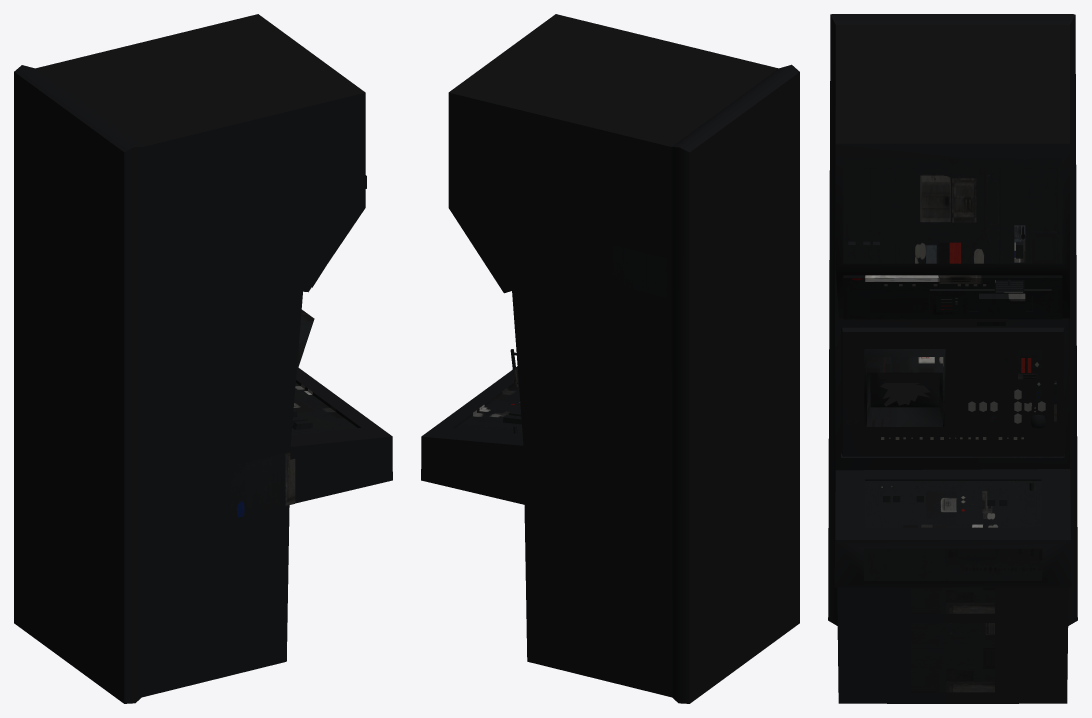
File: hoth_console.fbx
The picture shows the model from 3 angles, left to right: view 1: azimuth 30°, elevation 25°; view 2: azimuth 150°, elevation 25°; view 3: azimuth 270°, elevation 25°; orthographic projection. The views are drawn at different scales.
Parts seen in each view (by area): view 1: Mesh_0082.rip; view 2: Mesh_0082.rip; view 3: Mesh_0082.rip.
Part boxes in pixels (<box>): Mesh_0082.rip: <box>14,14,392,703</box>; Mesh_0082.rip: <box>421,14,799,703</box>; Mesh_0082.rip: <box>828,14,1077,703</box>.
Size of the model in its own units: 1.35 by 2.64 by 0.9843.
1 material, 1 textured.
